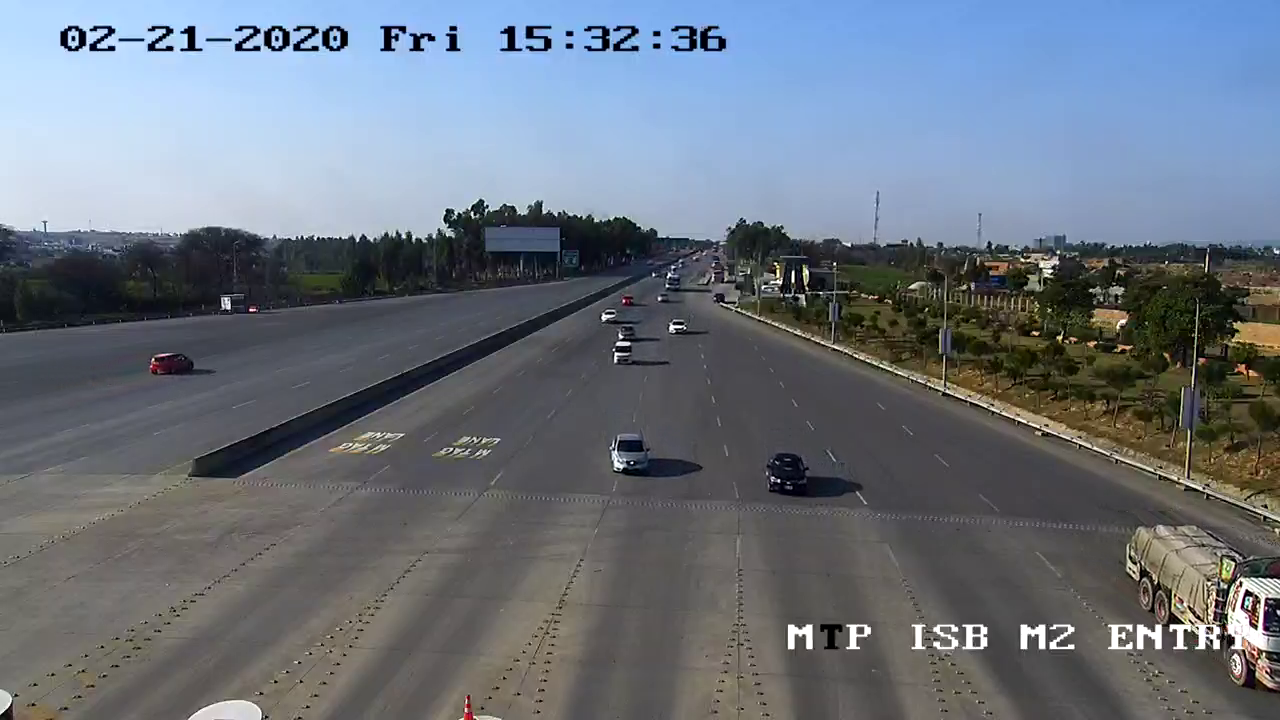f1: (757, 435, 825, 504), (597, 426, 662, 491)
